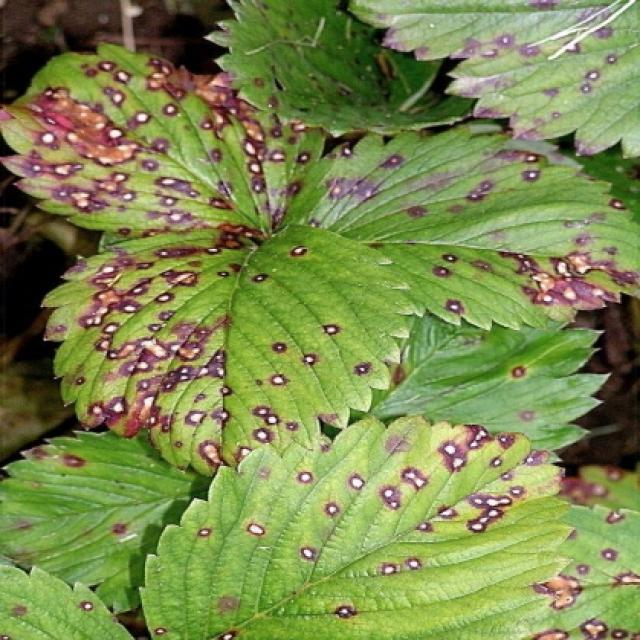Leaf Spot: (139, 413, 575, 638), (40, 223, 418, 475), (279, 120, 638, 331), (0, 41, 273, 252), (345, 0, 638, 160), (0, 428, 216, 615), (201, 0, 479, 135), (368, 314, 614, 464), (197, 77, 330, 234), (522, 464, 638, 638), (0, 563, 134, 638)
